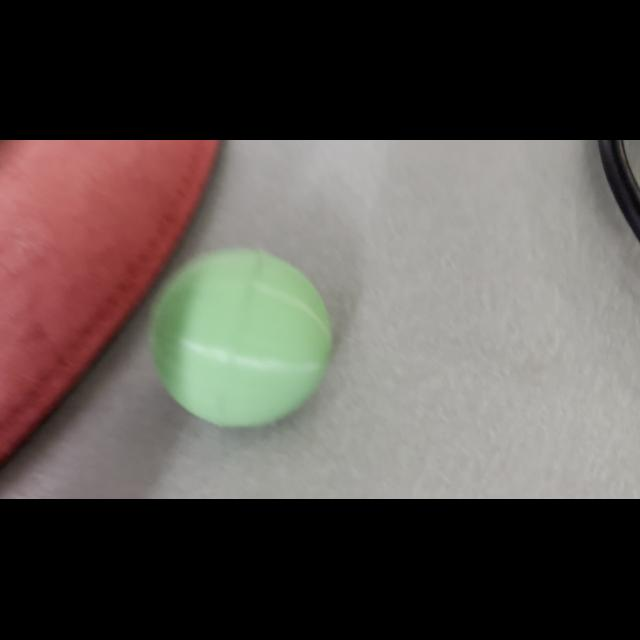objects: (143, 238, 345, 434)
